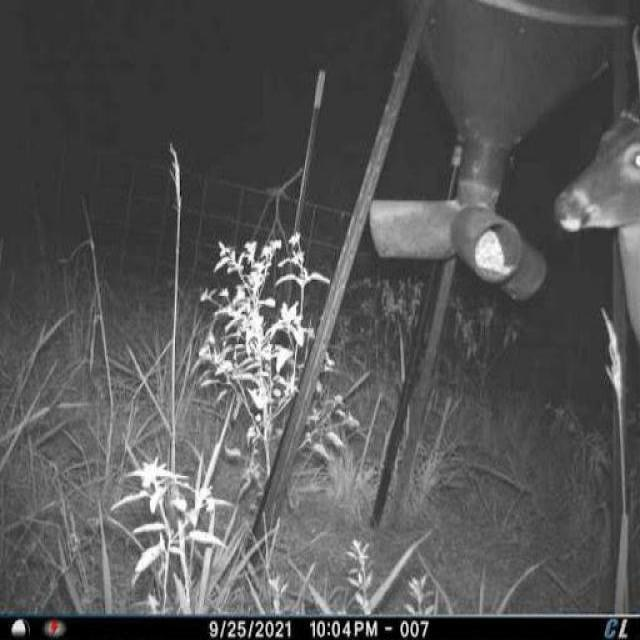deer: (544, 22, 640, 366)
